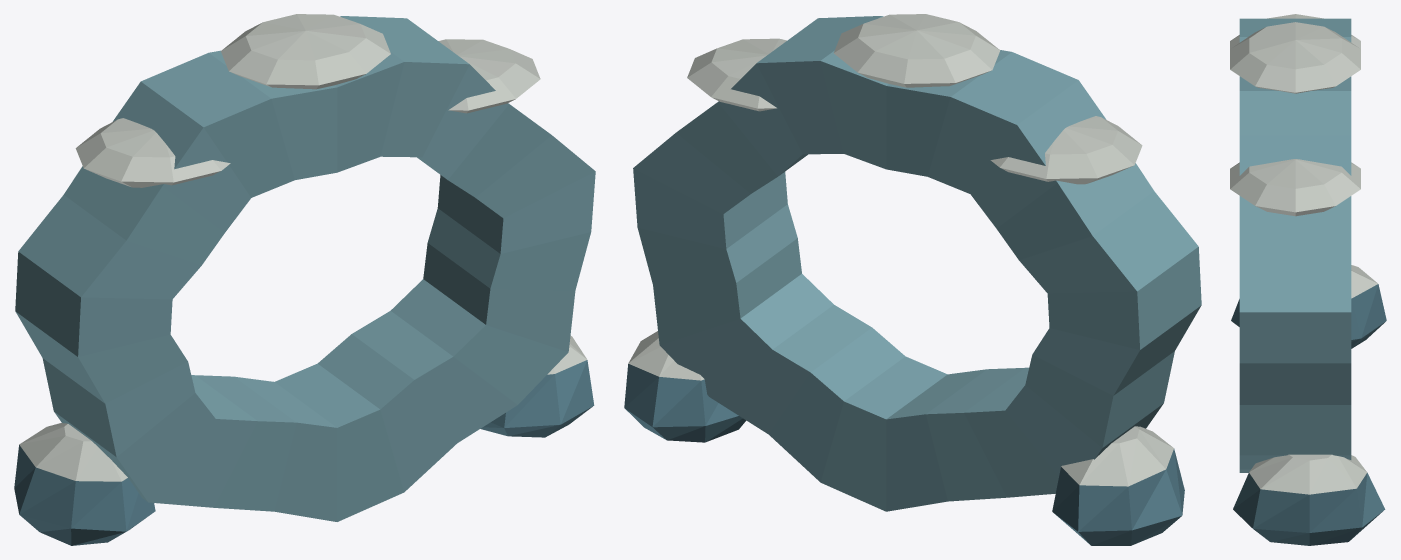
File: Environment_Feature_Snow_IceArch_001.glb
The picture shows the model from 3 angles, left to right: view 1: azimuth 30°, elevation 25°; view 2: azimuth 150°, elevation 25°; view 3: azimuth 270°, elevation 25°; orthographic projection. The views are drawn at different scales.
Parts seen in each view (by area): view 1: Environment_Feature_Snow_IceArch_001; view 2: Environment_Feature_Snow_IceArch_001; view 3: Environment_Feature_Snow_IceArch_001.
Part boxes in pixels (box(x1,y1,x2,y2)): Environment_Feature_Snow_IceArch_001: box(14, 14, 595, 545); Environment_Feature_Snow_IceArch_001: box(624, 14, 1201, 545); Environment_Feature_Snow_IceArch_001: box(1230, 14, 1386, 545).
Bounding box in the file's own units: 6.1 × 4.94 × 1.69.
